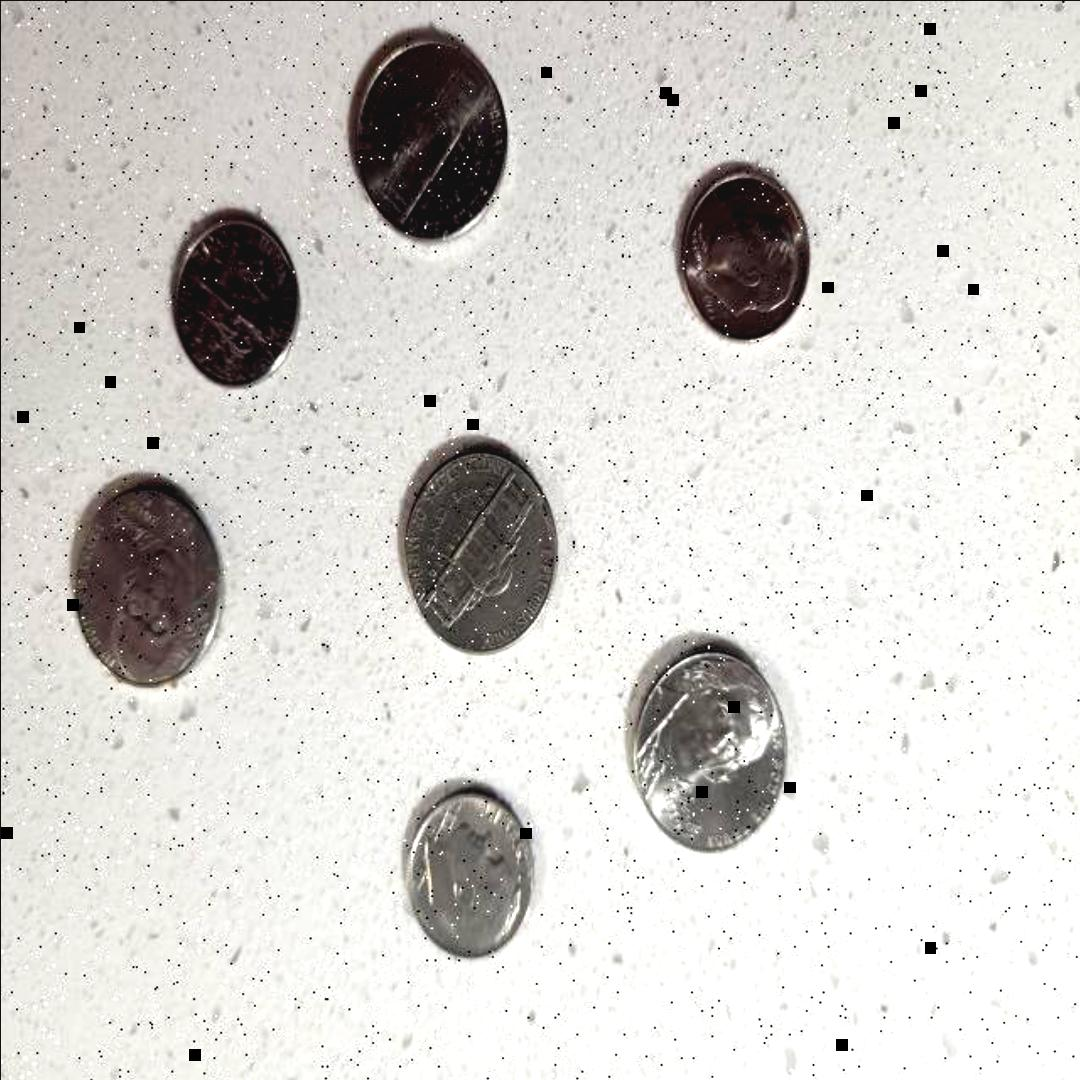Dime: (669, 158, 815, 346), (168, 210, 302, 394), (401, 788, 539, 962)
Nickel: (395, 441, 563, 662), (346, 29, 512, 251), (630, 644, 790, 862), (68, 482, 228, 691)
